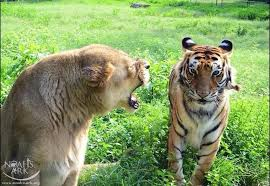lion: (1, 42, 158, 186)
tiger: (158, 29, 270, 186)
